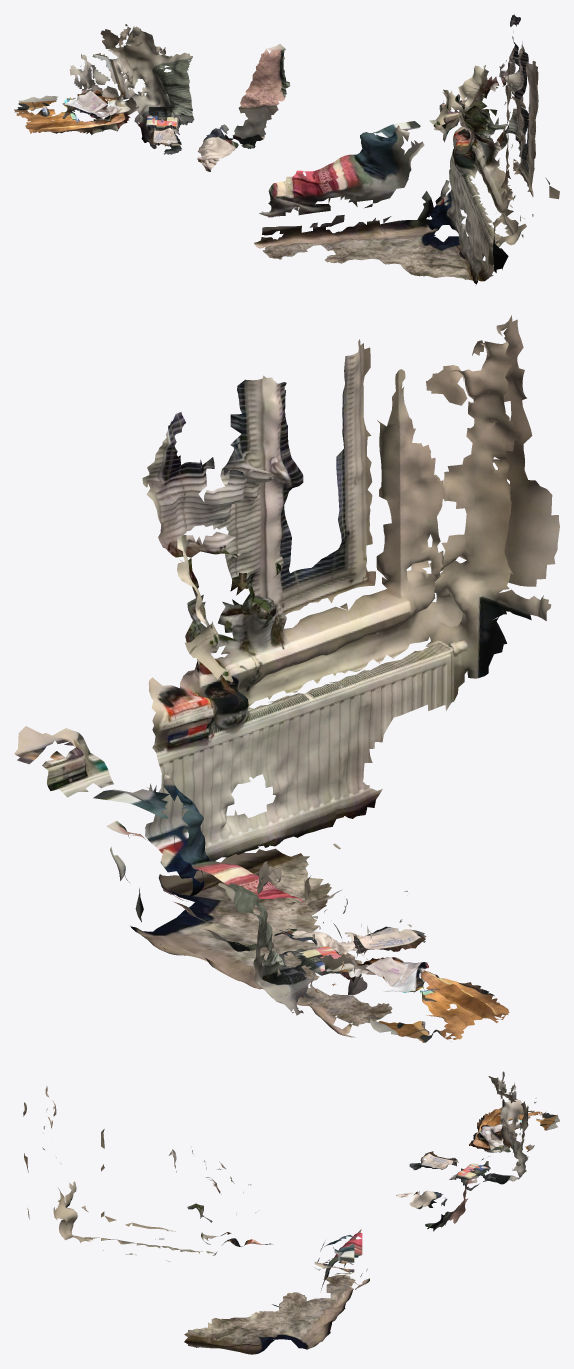
The model's file is 141386-manrooT500-tex.glb.
3 renders of one model, top to bottom at view 1: azimuth 30°, elevation 25°; view 2: azimuth 150°, elevation 25°; view 3: azimuth 270°, elevation 25°, orthographic. The views are drawn at different scales.
Visible parts, largest first — view 1: Node; view 2: Node; view 3: Node.
Boxes of the visible parts, <box> form: Node: <box>14,14,559,284</box>; Node: <box>14,315,559,1042</box>; Node: <box>23,1071,559,1354</box>.
Bounding box in the file's own units: 2.81 × 1.92 × 3.84.
1 material, 1 textured.
